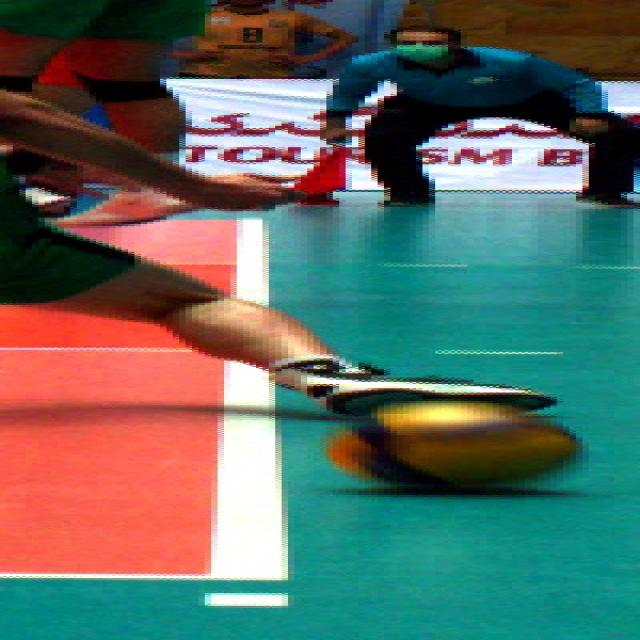Volleyball: (329, 400, 582, 490)
